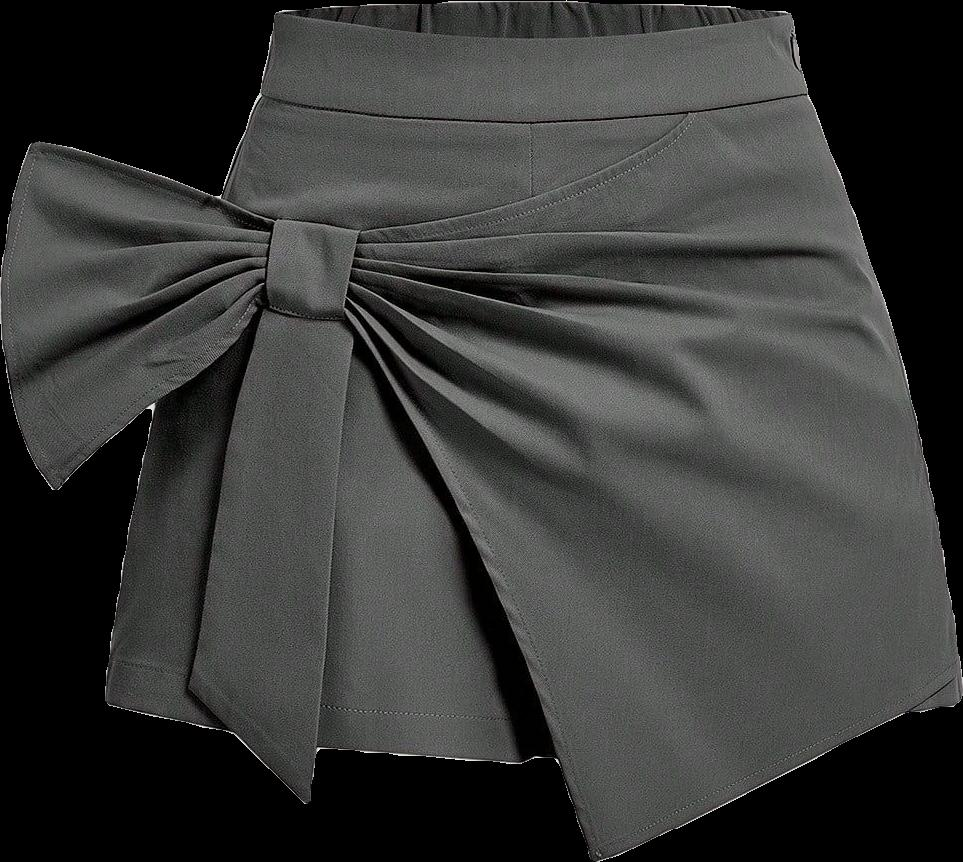Hemline: (51, 308, 962, 861), (104, 699, 557, 764)
Waistline: (212, 118, 688, 234), (258, 86, 809, 129), (274, 6, 790, 50)
